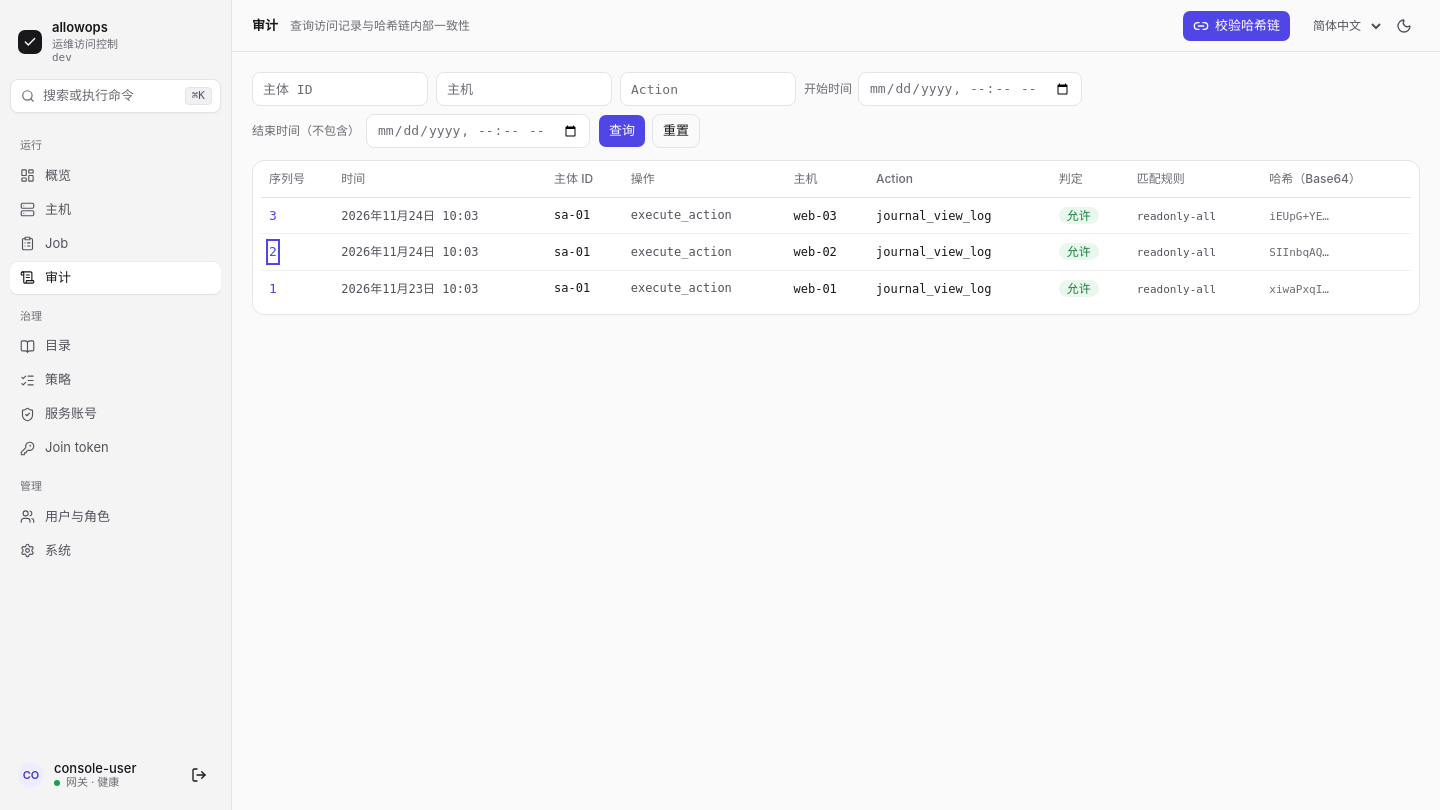
audit redesign › shows the hash chain around an event and closes on Escape
Check: the heading "审计" is shown, box [252, 16, 278, 35]
Check: the button named "打开审计事件 3 详情" is shown, box [269, 206, 277, 225]
Click the button named "打开审计事件 2 详情" at (273, 252), box [269, 242, 277, 262]
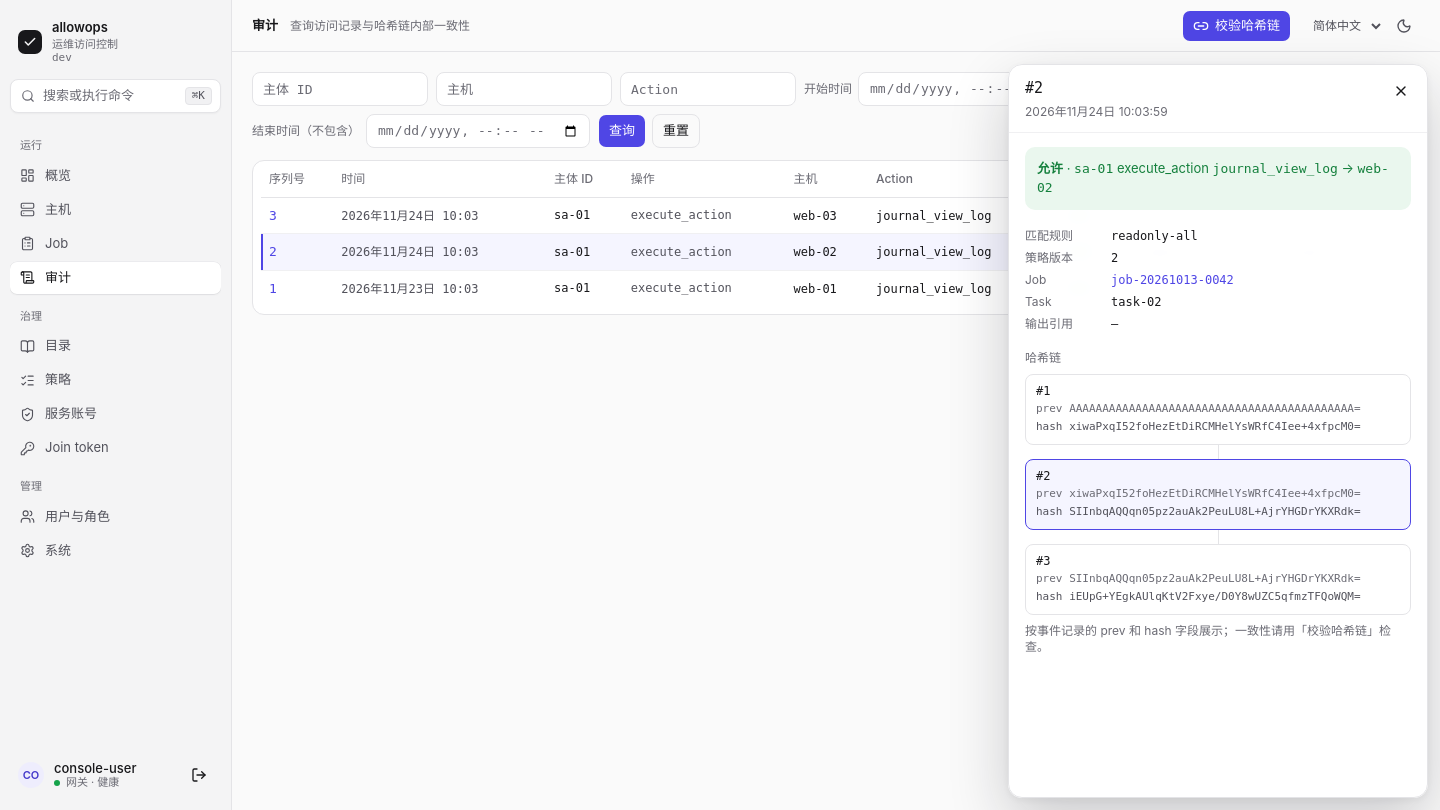
Check: the text "#1" is shown, box [1036, 384, 1050, 398]
Check: the text "#3" is shown, box [1036, 554, 1050, 568]
Press Escape
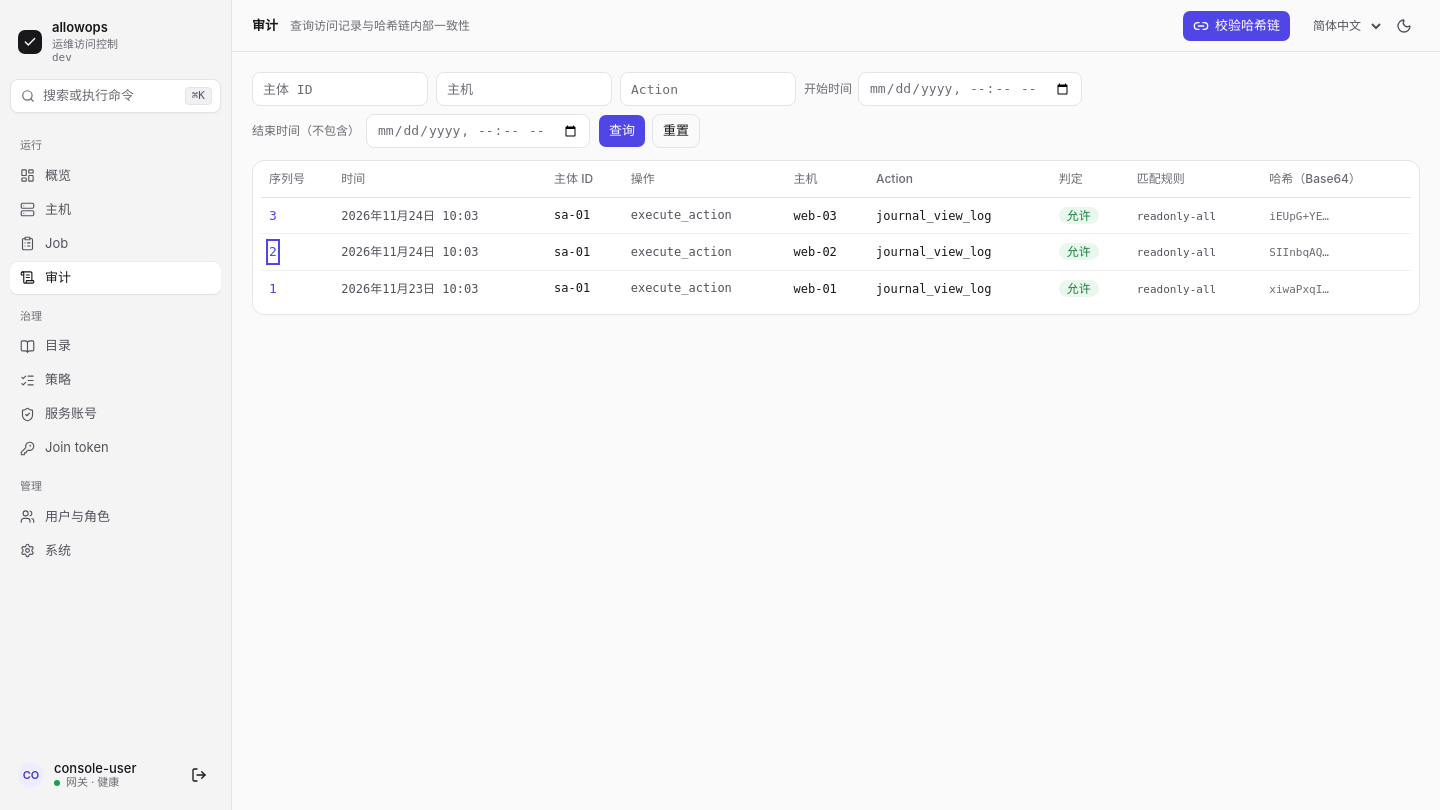
Check: the heading "#2" is gone
